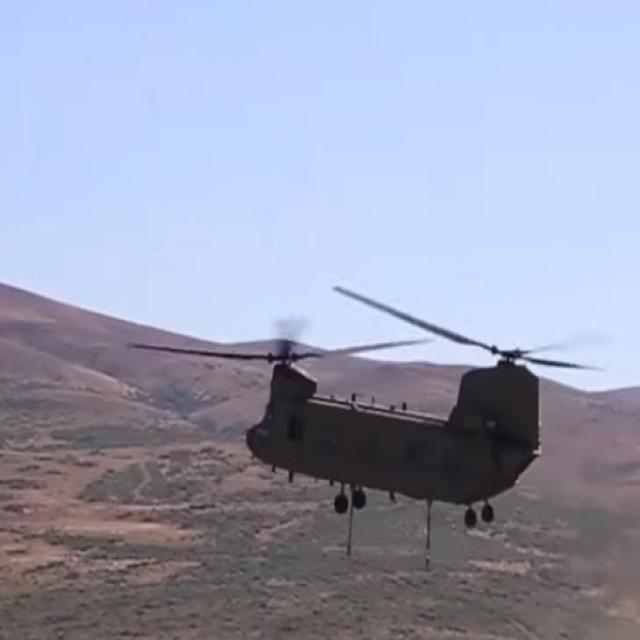Helicopter: (183, 245, 567, 567)
